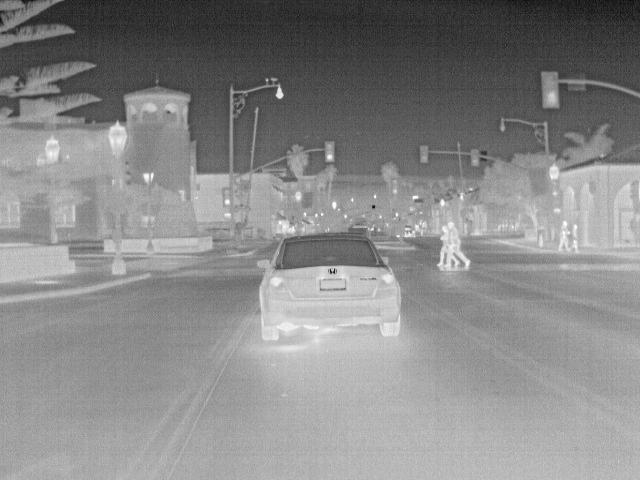car: (254, 230, 406, 344)
person: (443, 221, 472, 271), (434, 224, 451, 272), (555, 218, 572, 255), (569, 223, 581, 253)
